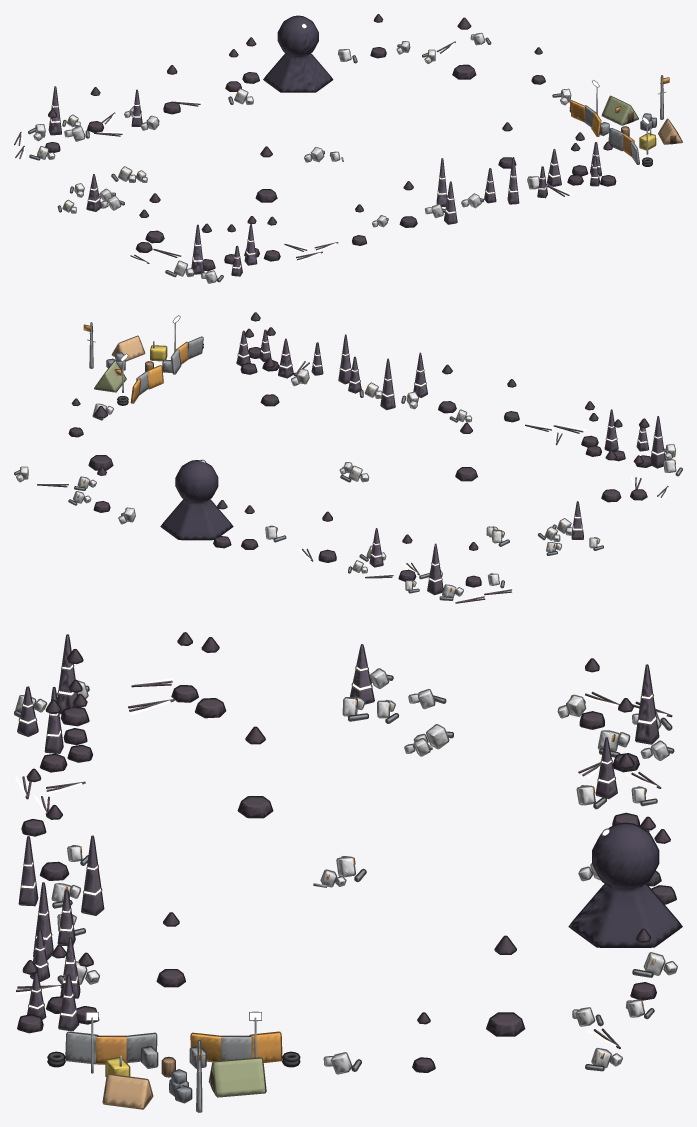
File: the_core.glb
3 views of the same model, one above another, from view 1: azimuth 30°, elevation 25°; view 2: azimuth 150°, elevation 25°; view 3: azimuth 270°, elevation 25° (orthographic). The views are drawn at different scales.
Visible parts, largest first — view 1: Baked_metal, Baked_metal_Outline, Baked_satin, Baked_matte, Baked_satin_Outline, Baked_matte_Outline, Baked_glow_f3614f, Baked_glow_ff7b59; view 2: Baked_metal, Baked_metal_Outline, Baked_satin, Baked_matte, Baked_satin_Outline, Baked_matte_Outline, Baked_glow_ff7b59, Baked_glow_f3614f; view 3: Baked_metal, Baked_metal_Outline, Baked_satin, Baked_matte, Baked_satin_Outline, Baked_matte_Outline, Baked_glow_f3614f, Baked_glow_ff7b59, Baked_glow_ff7b59_Outline.
Part boxes in pixels (x1=…): Baked_metal: x1=28, y1=15, x2=666, y2=281; Baked_metal_Outline: x1=28, y1=14, x2=663, y2=282; Baked_satin: x1=34, y1=33, x2=668, y2=282; Baked_matte: x1=14, y1=41, x2=681, y2=273; Baked_satin_Outline: x1=33, y1=32, x2=669, y2=283; Baked_matte_Outline: x1=35, y1=41, x2=682, y2=268; Baked_glow_f3614f: x1=21, y1=42, x2=573, y2=263; Baked_glow_ff7b59: x1=50, y1=104, x2=600, y2=268; Baked_metal: x1=14, y1=313, x2=682, y2=600; Baked_metal_Outline: x1=14, y1=312, x2=682, y2=600; Baked_satin: x1=17, y1=325, x2=675, y2=597; Baked_matte: x1=20, y1=336, x2=674, y2=603; Baked_satin_Outline: x1=16, y1=324, x2=676, y2=597; Baked_matte_Outline: x1=20, y1=335, x2=675, y2=592; Baked_glow_ff7b59: x1=238, y1=341, x2=664, y2=581; Baked_glow_f3614f: x1=40, y1=360, x2=668, y2=601; Baked_metal: x1=15, y1=633, x2=681, y2=1111; Baked_metal_Outline: x1=14, y1=632, x2=682, y2=1112; Baked_satin: x1=16, y1=669, x2=676, y2=1073; Baked_matte: x1=16, y1=669, x2=674, y2=1108; Baked_satin_Outline: x1=15, y1=668, x2=677, y2=1074; Baked_matte_Outline: x1=47, y1=668, x2=663, y2=1109; Baked_glow_f3614f: x1=14, y1=678, x2=666, y2=1047; Baked_glow_ff7b59: x1=20, y1=665, x2=656, y2=1016; Baked_glow_ff7b59_Outline: x1=18, y1=663, x2=657, y2=1017.
Bounding box in the file's own units: 40.82 × 4.51 × 26.21.
